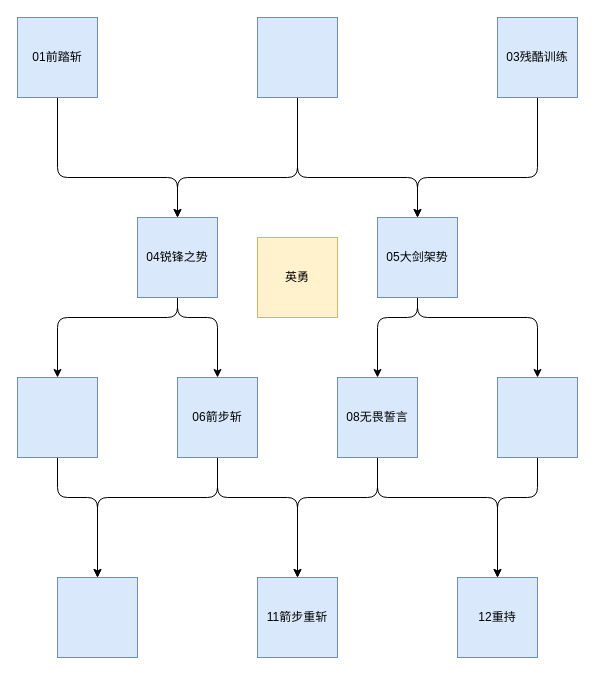
Some shapes in this 595 by 675 pixel diagram are drawn without their labels. The centre of each missing label's shape, as x and y in pixels:
02狠批: (297,57)
07狼跃: (57,417)
09所向披靡: (537,417)
10狼跃斩: (97,617)
